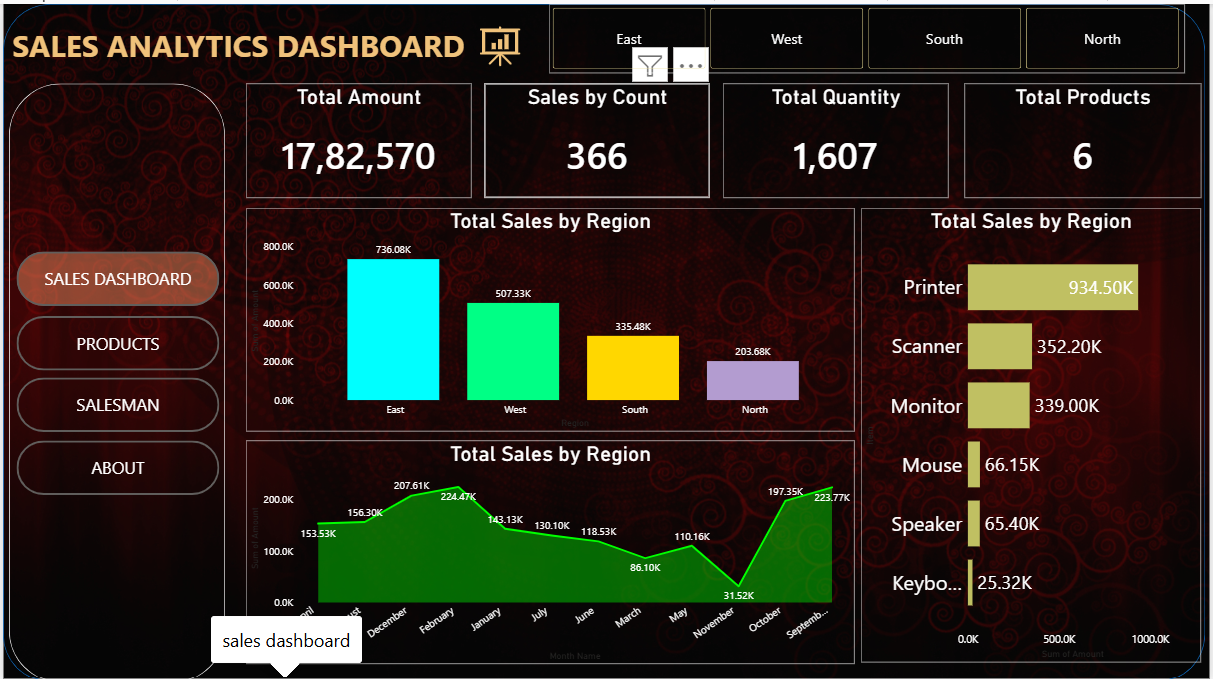

The dashboard page shown, as its layout file describes it:
{"tool":"powerbi","page":{"name":"sales dashboard","canvas":[1920,1080],"ordinal":0},"visuals":[{"type":"shape","box":[0,0,1912.1,1078.5],"z":0},{"type":"shape","box":[9,125.5,343.6,953],"z":1000},{"type":"cardVisual","title":"Total Amount","fields":{"Data":["data.Total Sales"]},"box":[385.4,125.5,358.5,182.2],"z":2000},{"type":"cardVisual","title":"Sales  by Count","fields":{"Data":["data.Total"]},"box":[764.8,125.5,358.5,182.2],"z":3000},{"type":"cardVisual","title":"Total Quantity","fields":{"Data":["data.Total quantity"]},"box":[1144.3,125.5,358.5,182.2],"z":4000},{"type":"cardVisual","title":"Total Products","fields":{"Data":["data.Total Items"]},"box":[1529.7,125.5,376.4,182.2],"z":5000},{"type":"columnChart","title":"Total Sales by Region","fields":{"Category":["data.Region"],"Y":["Sum(data.Amount)"]},"box":[385.4,325.6,968,355.5],"z":6000},{"type":"barChart","title":"Total Sales by Region","fields":{"Y":["Sum(data.Amount)"],"Category":["data.Item"]},"box":[1365.3,325.6,540.8,723],"z":7000},{"type":"lineChart","title":"Total Sales by Region","fields":{"Y":["Sum(data.Amount)"],"Category":["data.Month Name"]},"box":[385.4,693.1,968,355.5],"z":8000},{"type":"actionButton","box":[20.9,394.4,322.7,86.6],"z":9000},{"type":"actionButton","box":[20.9,495.9,322.7,86.6],"z":10000},{"type":"actionButton","box":[20.9,594.5,322.7,86.6],"z":11000},{"type":"actionButton","box":[20.9,693.1,322.7,86.6],"z":12000},{"type":"textbox","box":[9.5,26.2,935.3,100.2],"z":13000},{"type":"image","box":[713.4,26.2,155.1,81.1],"z":14000},{"type":"advancedSlicerVisual","title":"Total Sales by Region","fields":{"Values":["data.Region"]},"box":[868.5,0,1011.6,109.8],"z":15000}]}

Visuals, with their boxes in screenshot pixels (x1, y1, x2, y2), scaled from the page's 1920x1080 canvas onto the 1213x679 screenshot:
shape: (0,0,1208,678)
shape: (6,79,223,678)
"Total Amount" cardVisual: (243,79,470,193)
"Sales  by Count" cardVisual: (483,79,710,193)
"Total Quantity" cardVisual: (723,79,949,193)
"Total Products" cardVisual: (966,79,1204,193)
"Total Sales by Region" columnChart: (243,205,855,428)
"Total Sales by Region" barChart: (863,205,1204,659)
"Total Sales by Region" lineChart: (243,436,855,659)
actionButton: (13,248,217,302)
actionButton: (13,312,217,366)
actionButton: (13,374,217,428)
actionButton: (13,436,217,490)
textbox: (6,16,597,79)
image: (451,16,549,67)
"Total Sales by Region" advancedSlicerVisual: (549,0,1188,69)
